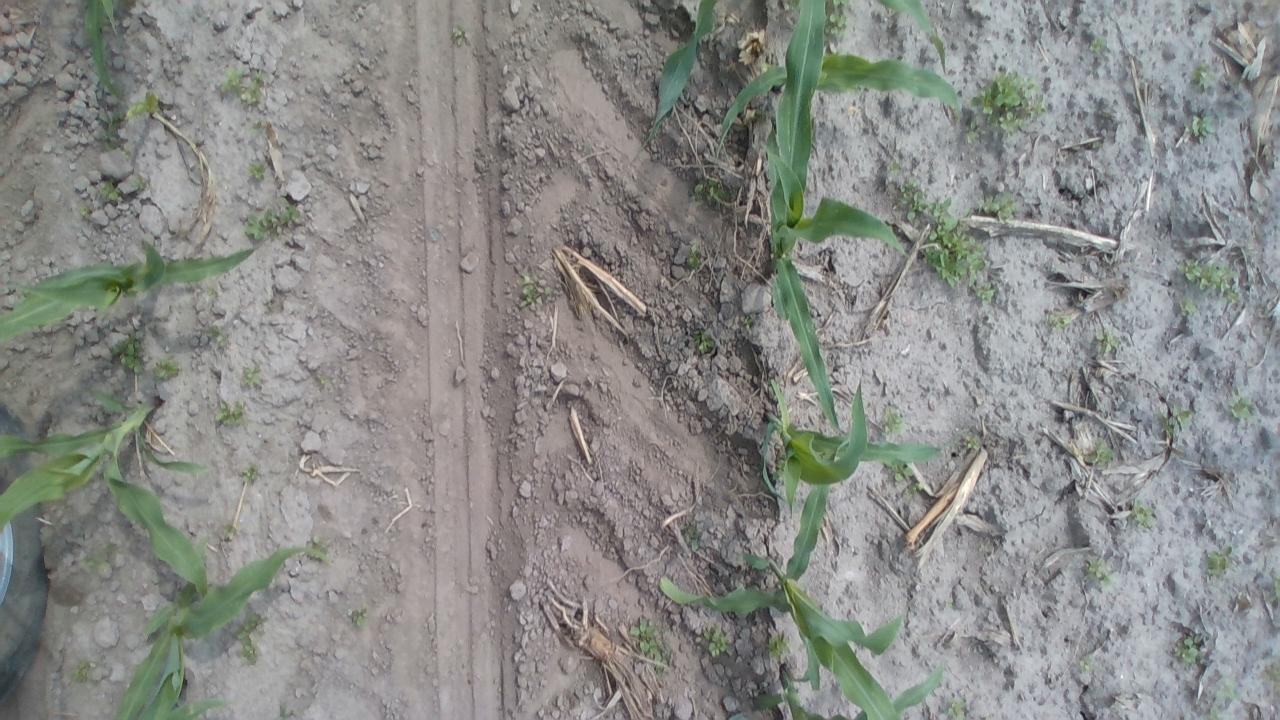Maize: (764, 0, 912, 439), (656, 474, 904, 720), (0, 386, 215, 604), (108, 545, 334, 719), (0, 236, 259, 344), (716, 54, 964, 162), (758, 377, 945, 507), (638, 1, 728, 154), (749, 662, 948, 720), (876, 0, 951, 72), (81, 0, 131, 108)
Weeds: (969, 71, 1049, 138), (918, 219, 985, 288), (1174, 258, 1240, 305), (896, 178, 954, 224), (630, 615, 671, 672), (230, 613, 264, 671), (96, 110, 132, 161), (980, 187, 1026, 224), (112, 330, 146, 375), (1203, 543, 1238, 580), (824, 0, 851, 47), (242, 209, 280, 241), (692, 174, 726, 208), (1158, 404, 1192, 437), (1186, 62, 1219, 95), (702, 622, 732, 658), (1172, 634, 1202, 668), (126, 90, 158, 121), (242, 70, 268, 106), (1222, 384, 1248, 419), (216, 398, 246, 428), (277, 194, 307, 224), (1085, 438, 1114, 468), (68, 656, 98, 684), (1084, 556, 1112, 586), (1184, 112, 1214, 140), (520, 272, 542, 310), (1130, 496, 1154, 530), (1094, 328, 1123, 356), (692, 328, 722, 355), (150, 356, 182, 381), (766, 632, 791, 664), (220, 63, 244, 96), (1045, 306, 1073, 334), (881, 409, 904, 440), (681, 524, 703, 556), (78, 550, 102, 578), (1062, 137, 1104, 153), (881, 461, 914, 481), (962, 118, 984, 148), (239, 364, 264, 390), (241, 459, 263, 488), (451, 18, 472, 48), (687, 241, 706, 274), (1086, 34, 1110, 60), (351, 605, 374, 631), (94, 181, 122, 202), (307, 535, 328, 562), (1263, 662, 1280, 694), (1175, 296, 1199, 318), (974, 283, 998, 304), (208, 325, 228, 350), (884, 157, 910, 176), (1266, 573, 1280, 605), (244, 162, 268, 180), (947, 702, 969, 720), (1216, 681, 1235, 701), (902, 482, 924, 499), (220, 522, 238, 542), (1078, 654, 1096, 673), (741, 314, 758, 332), (781, 0, 800, 15), (128, 174, 144, 190), (964, 435, 980, 450), (1208, 708, 1227, 720), (102, 540, 114, 557), (542, 284, 554, 300), (11, 214, 26, 225), (78, 206, 90, 219), (946, 598, 957, 608)
